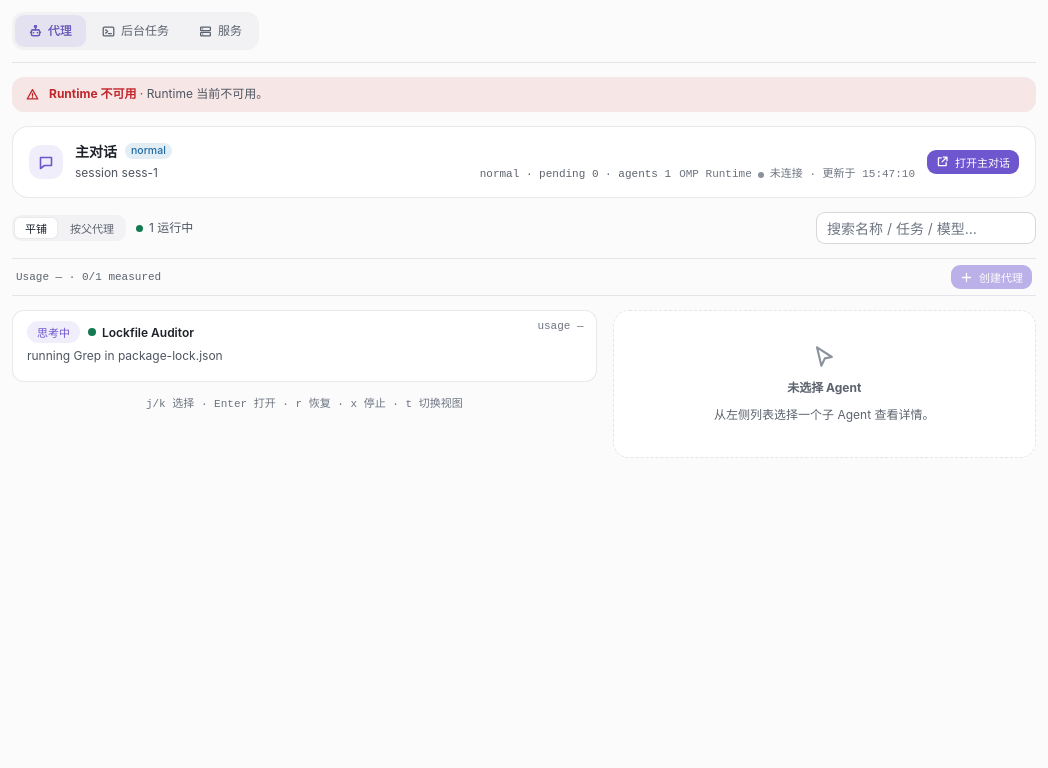
Scenario: AgentHubPage real-mode projection › shows the upstream activity gist and active jobs for running agents
Click the option "Lockfile Auditor": (54, 332) [12,310,597,382]
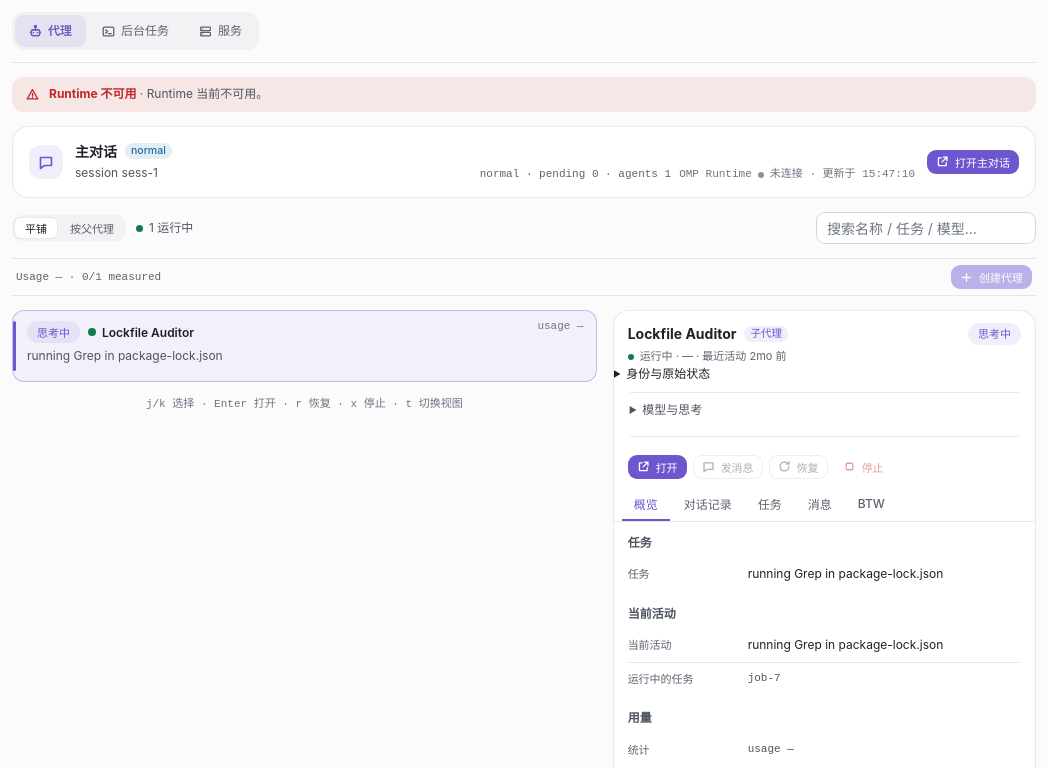
Expected: the 1st text "running Grep in package-lock.json" is shown, [27,348,223,363]
Now the text "job-7" is shown, box [748,672,781,684]
